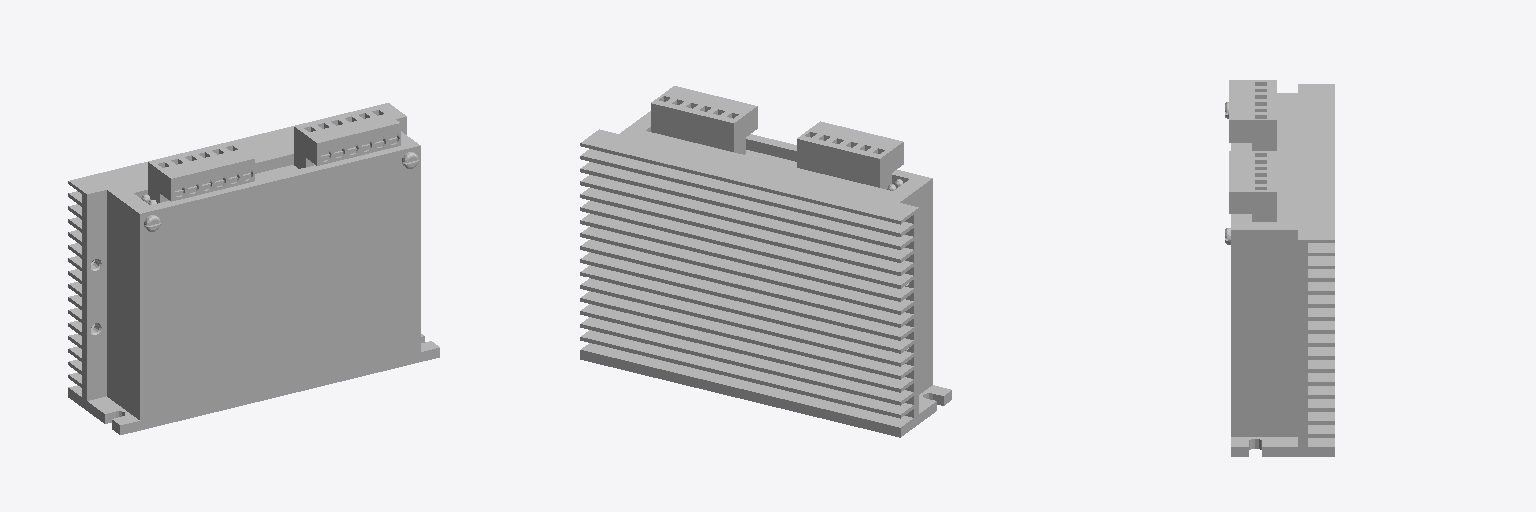
Rendered from Microstep Driver.obj.
3 renders of one model, left to right at view 1: azimuth 30°, elevation 25°; view 2: azimuth 150°, elevation 25°; view 3: azimuth 270°, elevation 25°, orthographic.
Parts seen in each view (by area): view 1: Solid1; view 2: Solid1; view 3: Solid1.
Boxes of the visible parts, x1=… form: Solid1: x1=68, y1=103, x2=439, y2=434; Solid1: x1=580, y1=86, x2=951, y2=437; Solid1: x1=1225, y1=80, x2=1334, y2=456.
Bounding box in the file's own units: 118 × 86 × 35.